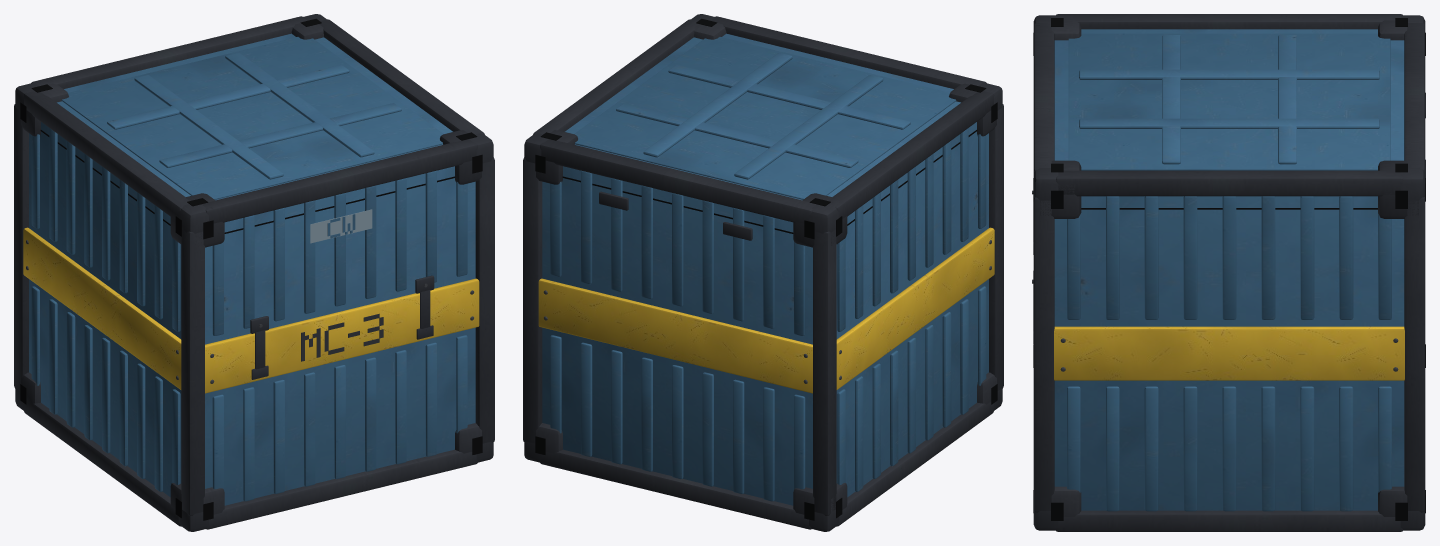
Rendered from metal_crate.glb.
3 views of the same model, side by side, from view 1: azimuth 30°, elevation 25°; view 2: azimuth 150°, elevation 25°; view 3: azimuth 270°, elevation 25° (orthographic). The views are drawn at different scales.
Parts seen in each view (by area): view 1: MetalCrateBody; view 2: MetalCrateBody; view 3: MetalCrateBody.
Boxes of the visible parts, left/top/right/bottom form: MetalCrateBody: left=14, top=14, right=494, bottom=531; MetalCrateBody: left=523, top=14, right=1003, bottom=531; MetalCrateBody: left=1032, top=14, right=1425, bottom=531.
Size of the model in its own units: 0.744 by 0.744 by 0.746.
8 materials, 5 textured.
